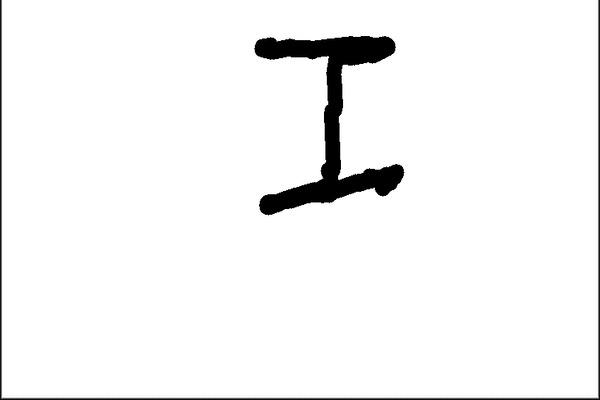i: (242, 33, 407, 217)
